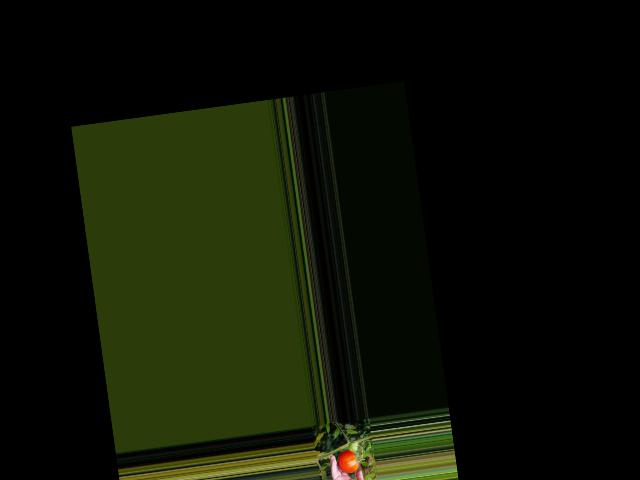tomato: (336, 448, 359, 474)
